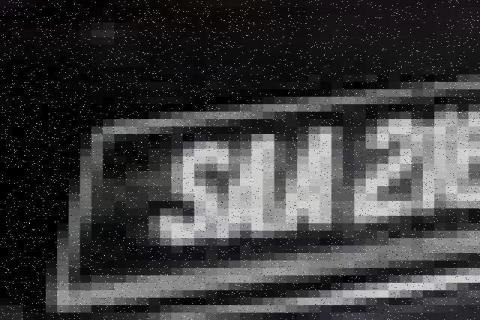LicensePlate: (22, 67, 480, 311)
